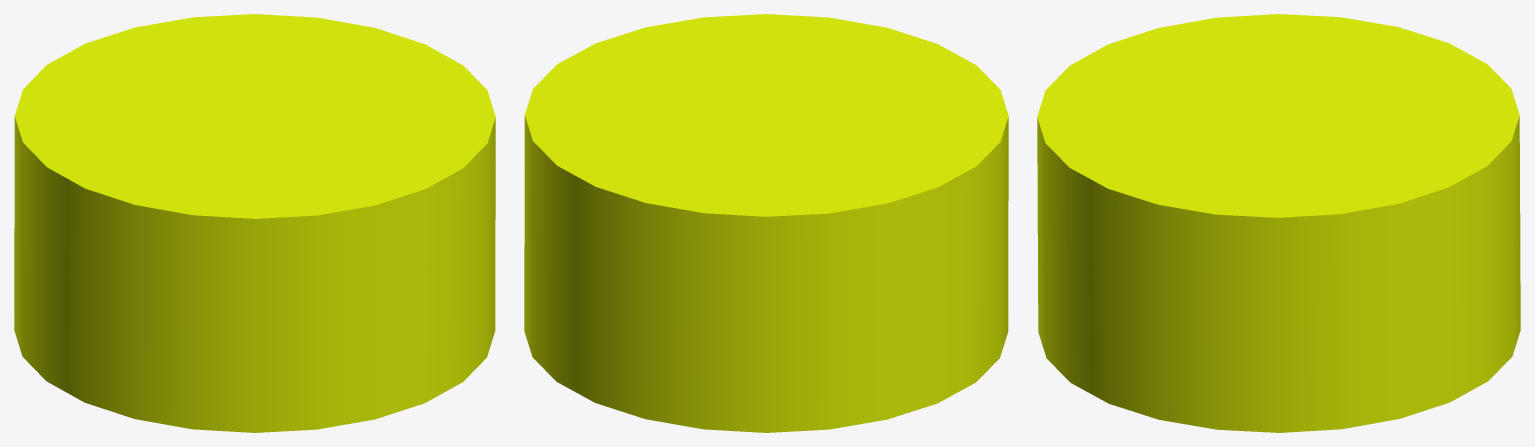
The model's file is SM_YellowButton.FBX.
The picture shows the model from 3 angles, left to right: view 1: azimuth 30°, elevation 25°; view 2: azimuth 150°, elevation 25°; view 3: azimuth 270°, elevation 25°; orthographic projection.
Parts seen in each view (by area): view 1: SM_YellowButton; view 2: SM_YellowButton; view 3: SM_YellowButton.
Part boxes in pixels (box(x1,y1,x2,y2)): SM_YellowButton: box(14, 14, 495, 432); SM_YellowButton: box(524, 14, 1008, 432); SM_YellowButton: box(1037, 14, 1520, 432).
Bounding box in the file's own units: 10 × 4.96 × 10.02.
